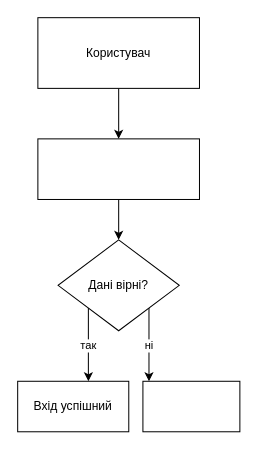
This 258x449 diagram has some shape labels left out. The centre of each missing label's shape, as x and y in pixels:
Вводить логін та пароль: pixel 118 168
Помилка: pixel 191 406
